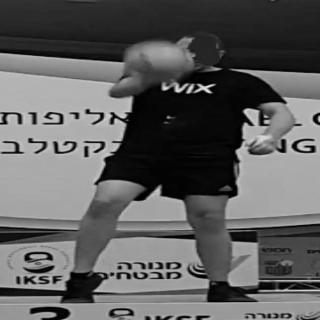kettlebell: (119, 37, 197, 83)
